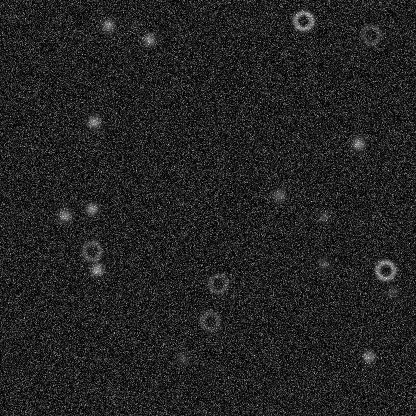Ring: (197, 309, 221, 333), (79, 238, 103, 262), (205, 271, 229, 295), (358, 22, 382, 46), (373, 258, 397, 282), (291, 8, 315, 32)
Spot: (270, 186, 286, 202), (83, 200, 99, 216), (315, 255, 331, 271), (385, 283, 401, 299), (126, 17, 142, 33), (56, 207, 72, 223), (140, 31, 156, 47), (360, 348, 376, 364), (315, 209, 331, 225), (174, 350, 190, 366), (88, 261, 104, 277), (350, 135, 366, 151), (100, 17, 116, 33), (85, 114, 101, 130)
